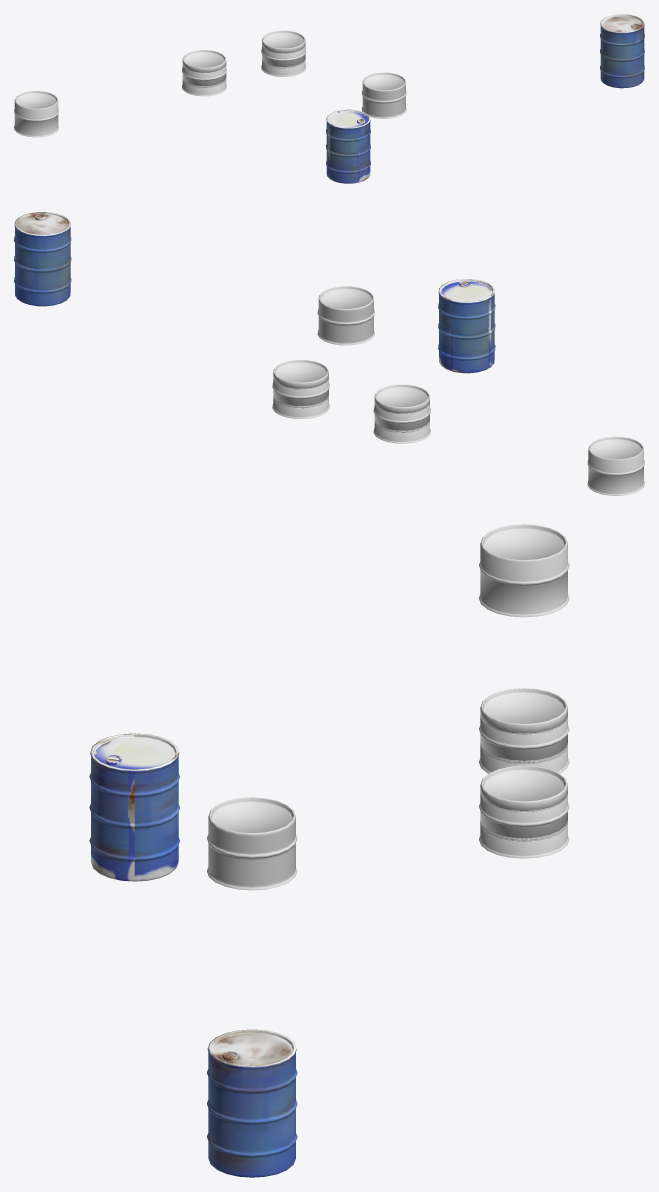
The model's file is barrel.glb.
The picture shows the model from 3 angles, top to bottom: view 1: azimuth 30°, elevation 25°; view 2: azimuth 150°, elevation 25°; view 3: azimuth 270°, elevation 25°; orthographic projection. The views are drawn at different scales.
Parts seen in each view (by area): view 1: Barrel, Barrel.001, Cylinder.001, Cylinder.003, Cylinder.002, Cylinder.004; view 2: Barrel.001, Barrel, Cylinder.001, Cylinder.003, Cylinder.004, Cylinder.002; view 3: Barrel, Barrel.001, Cylinder.004, Cylinder.002, Cylinder.003, Cylinder.001.
Part boxes in pixels (x1=…): Barrel: x1=600, y1=14, x2=644, y2=88; Barrel.001: x1=326, y1=109, x2=370, y2=183; Cylinder.001: x1=182, y1=50, x2=226, y2=96; Cylinder.003: x1=14, y1=91, x2=58, y2=137; Cylinder.002: x1=261, y1=30, x2=306, y2=76; Cylinder.004: x1=361, y1=72, x2=406, y2=118; Barrel.001: x1=438, y1=279, x2=495, y2=373; Barrel: x1=14, y1=212, x2=71, y2=306; Cylinder.001: x1=373, y1=384, x2=430, y2=443; Cylinder.003: x1=587, y1=436, x2=644, y2=495; Cylinder.004: x1=317, y1=286, x2=374, y2=345; Cylinder.002: x1=272, y1=360, x2=329, y2=418; Barrel: x1=207, y1=1029, x2=297, y2=1177; Barrel.001: x1=89, y1=733, x2=179, y2=881; Cylinder.004: x1=207, y1=797, x2=297, y2=890; Cylinder.002: x1=479, y1=765, x2=569, y2=858; Cylinder.003: x1=479, y1=524, x2=569, y2=617; Cylinder.001: x1=479, y1=688, x2=569, y2=773.
Bounding box in the file's own units: 29.37 × 2.82 × 10.96.
Materials: 1 (1 with a texture image).
